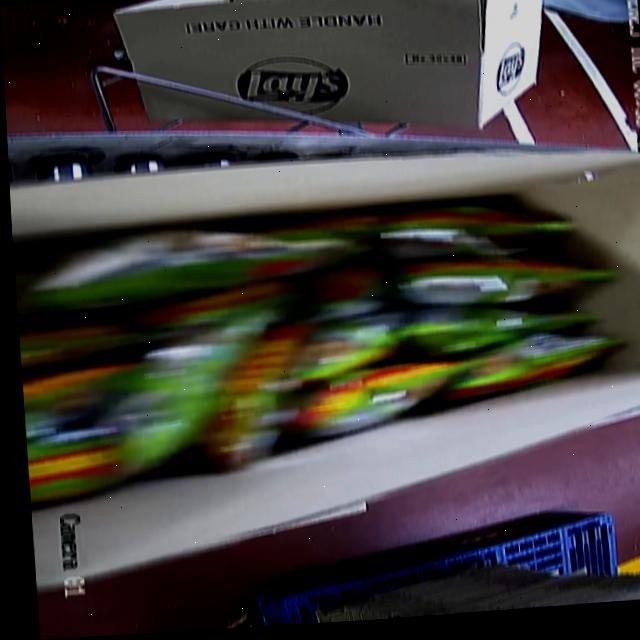YOGURT_HERB: (12, 186, 636, 510)
